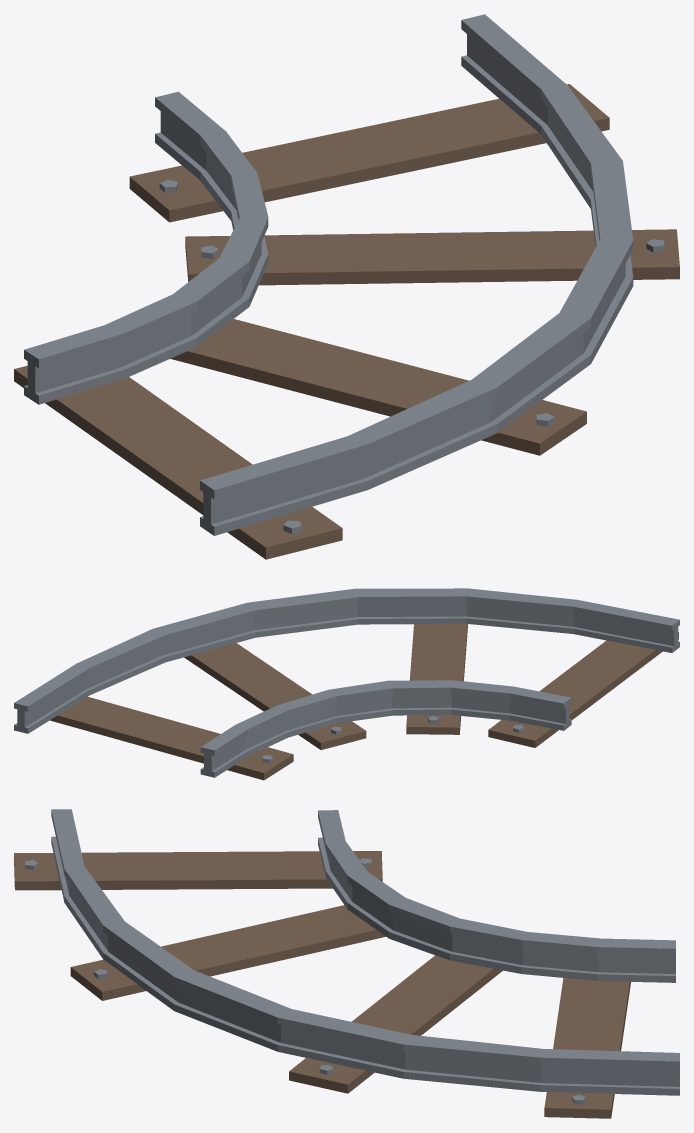
The model's file is Track_TurnLeft.fbx.
3 renders of one model, top to bottom at view 1: azimuth 30°, elevation 25°; view 2: azimuth 150°, elevation 25°; view 3: azimuth 270°, elevation 25°, orthographic. The views are drawn at different scales.
Visible parts, largest first — view 1: Track_TurnLeft; view 2: Track_TurnLeft; view 3: Track_TurnLeft.
Boxes of the visible parts, left/top/right/bottom form: Track_TurnLeft: left=14, top=14, right=679, bottom=559; Track_TurnLeft: left=14, top=588, right=679, bottom=780; Track_TurnLeft: left=14, top=809, right=679, bottom=1118.
Bounding box in the file's own units: 189 × 14.22 × 199.
